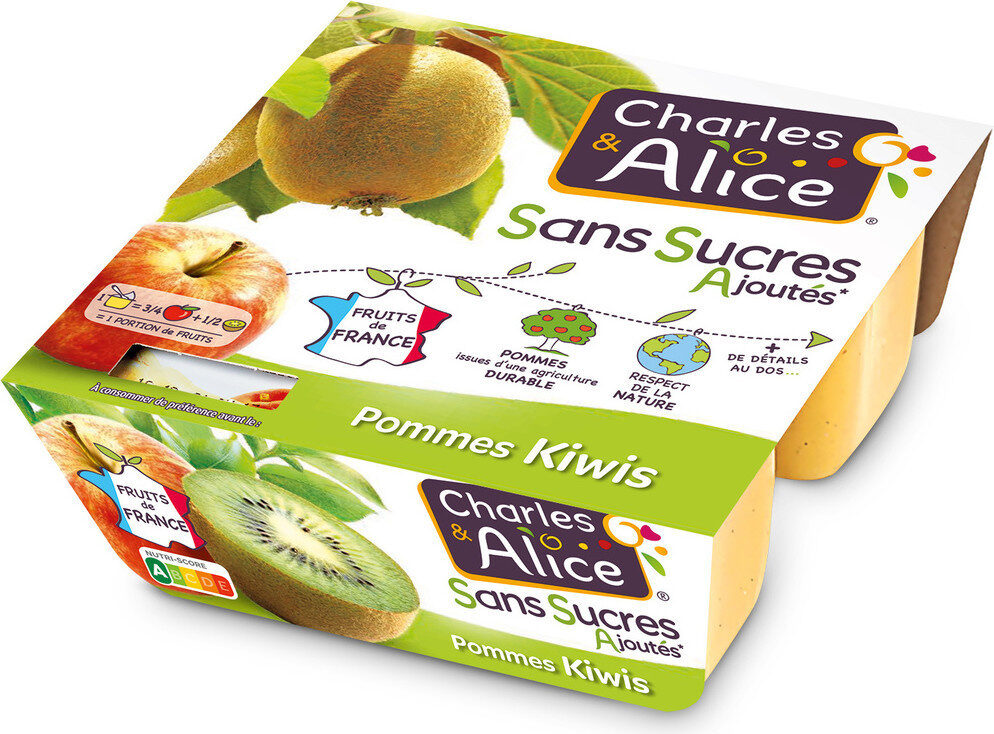Pommes Kiwis: (50, 37, 944, 697)
